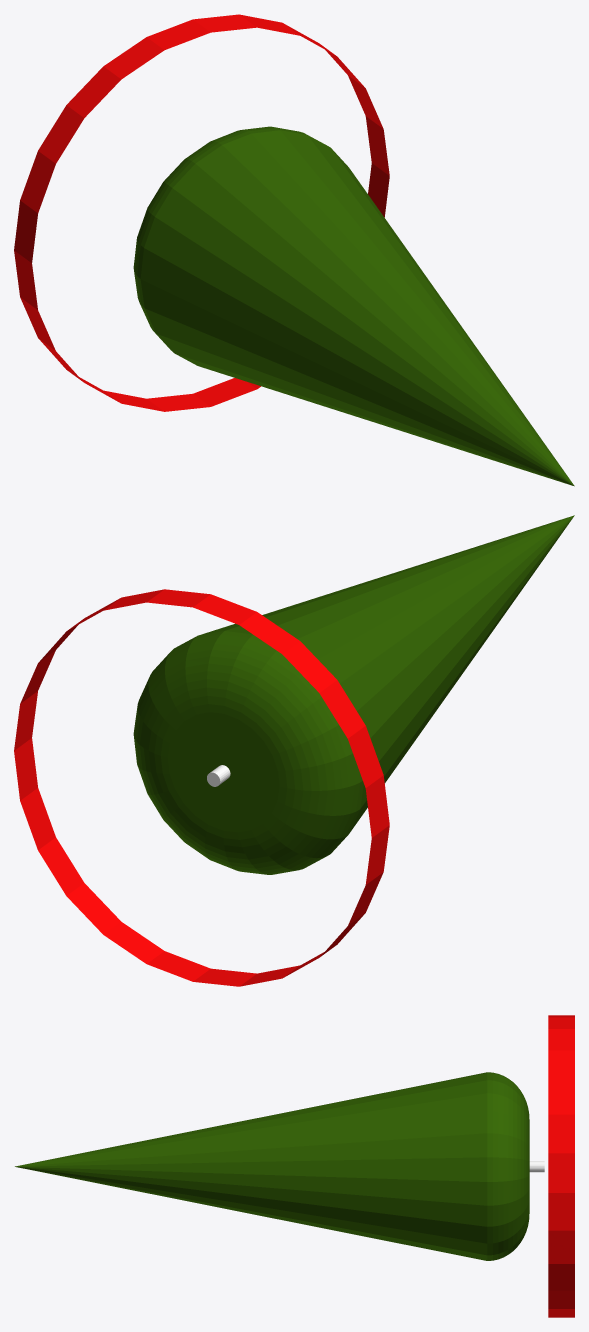
File: HPKo14m.obj
The picture shows the model from 3 angles, top to bottom: view 1: azimuth 30°, elevation 25°; view 2: azimuth 150°, elevation 25°; view 3: azimuth 270°, elevation 25°; orthographic projection. The views are drawn at different scales.
Bounding box in the file's own units: 8 × 8 × 14.8.
